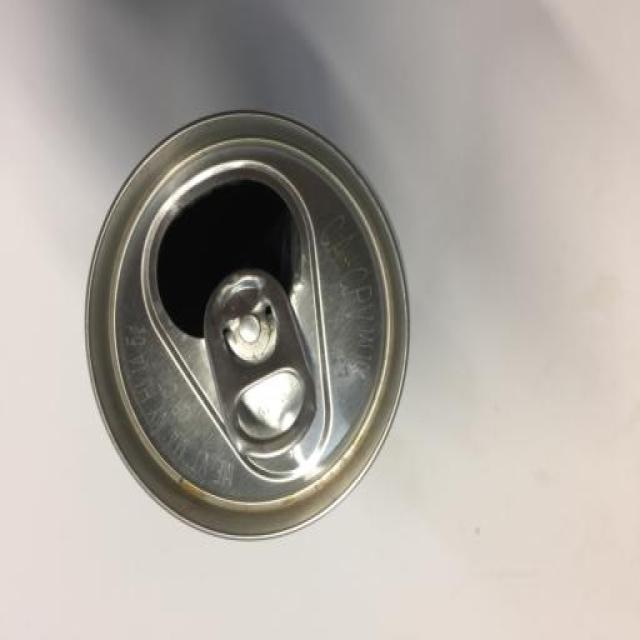Metal: (84, 105, 411, 540)
